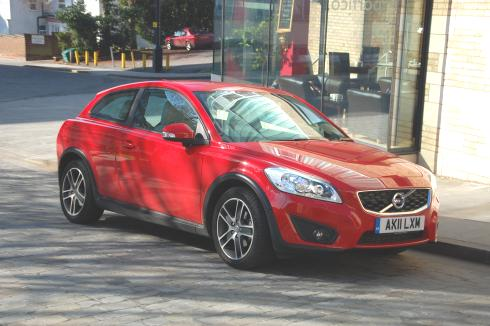volvo: (389, 186, 414, 215)
